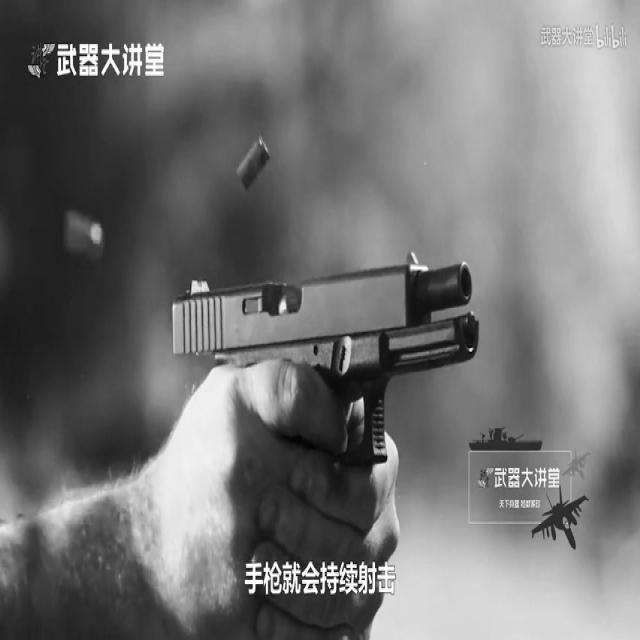Hand-Gun: (144, 188, 531, 640)
